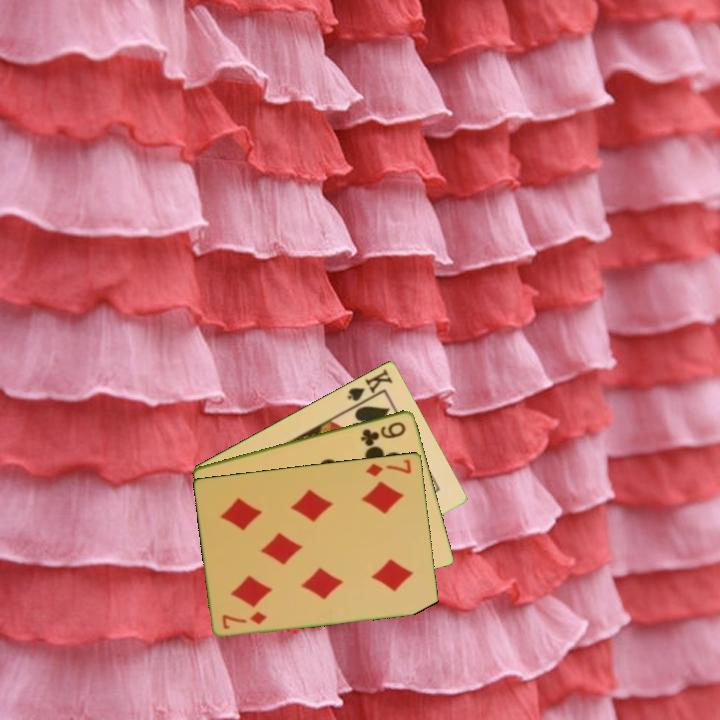7d: (363, 455, 415, 479), (219, 607, 270, 631)
9c: (357, 418, 409, 447)
Ks: (344, 365, 396, 404)
